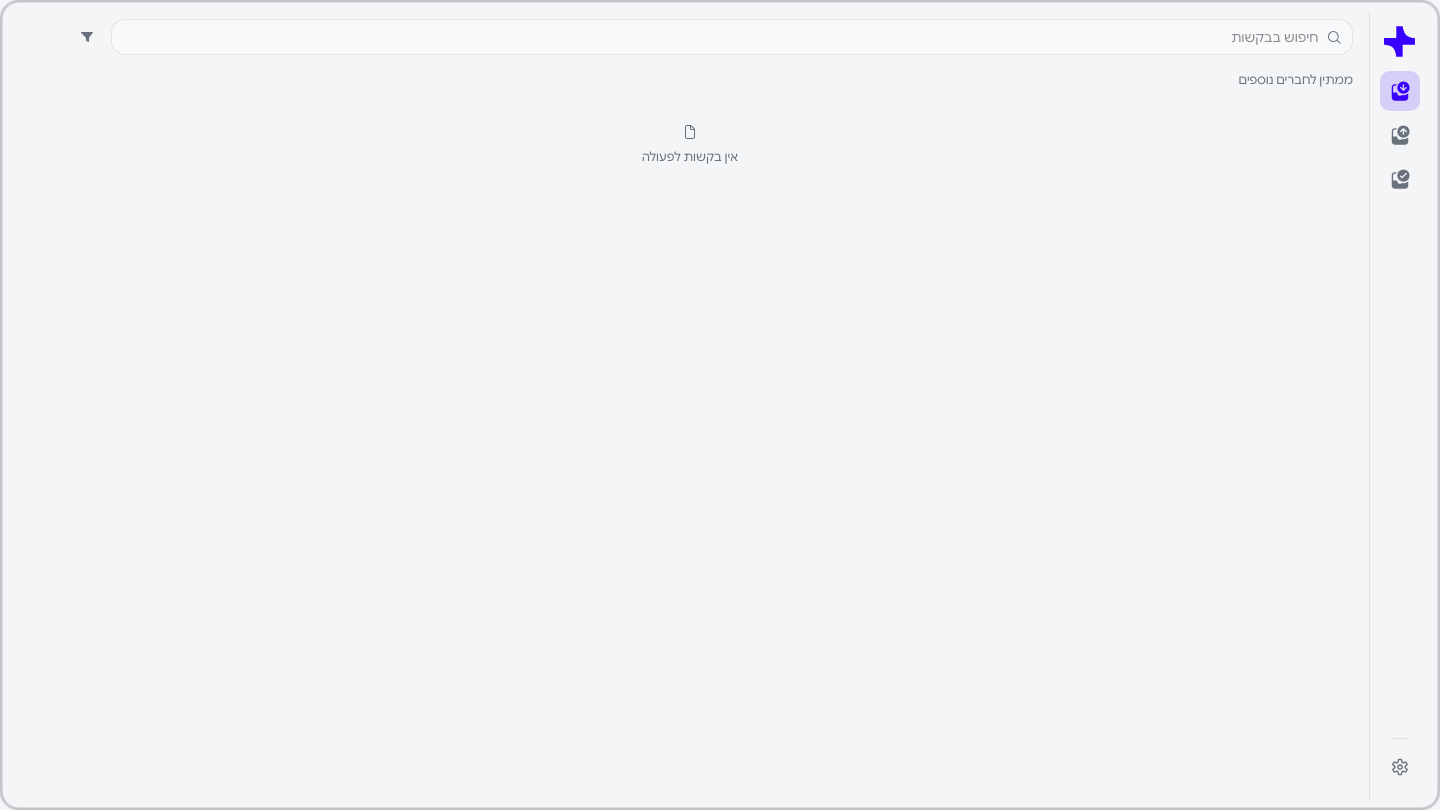
WorkspaceReadyScreen › lets the creator request a new join code when none is in memory
This screenshot has width=1440, height=810.
Click the button named "הגדרות".
click(1400, 767)  # box [1380, 747, 1420, 787]
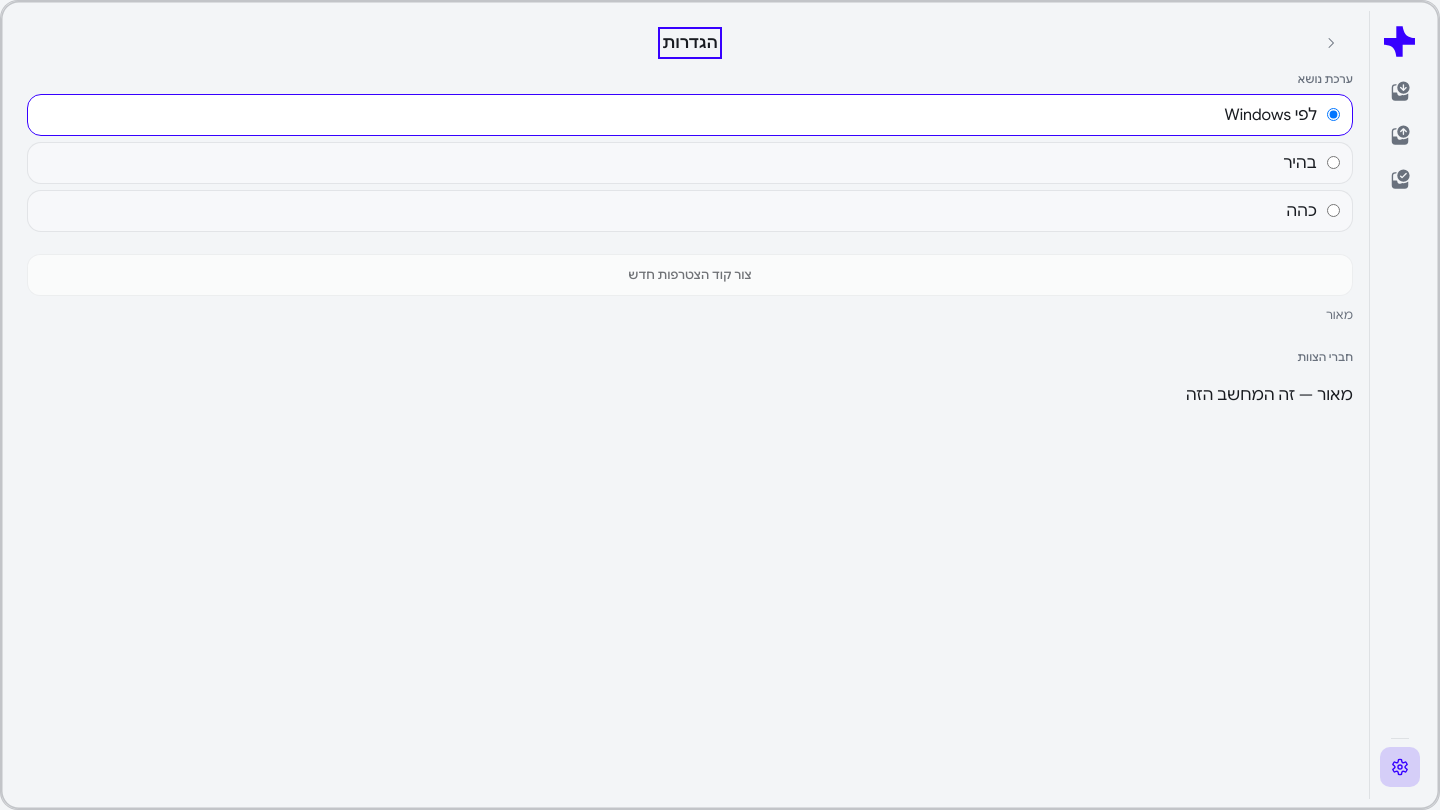
Expected: the button "צור קוד הצטרפות חדש" is shown, [27, 254, 1353, 296]
